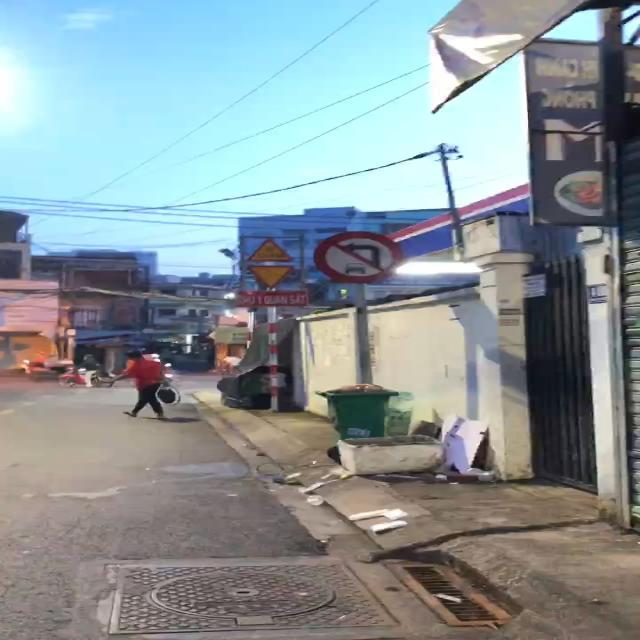Bien bao cam xe o to re trai: (308, 228, 404, 286)
Bien bao giao nhau voi duong uu tien: (244, 263, 299, 291)
